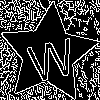W: (23, 28, 78, 84)
